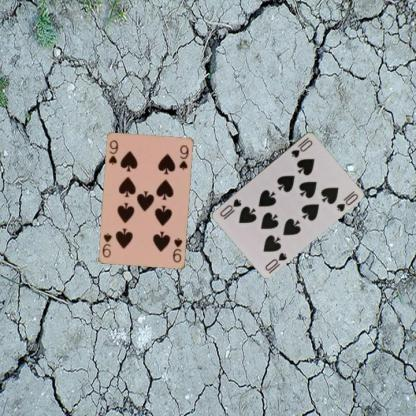10s: (288, 135, 314, 159), (262, 250, 288, 272)
9s: (170, 235, 184, 264), (106, 138, 120, 166)
